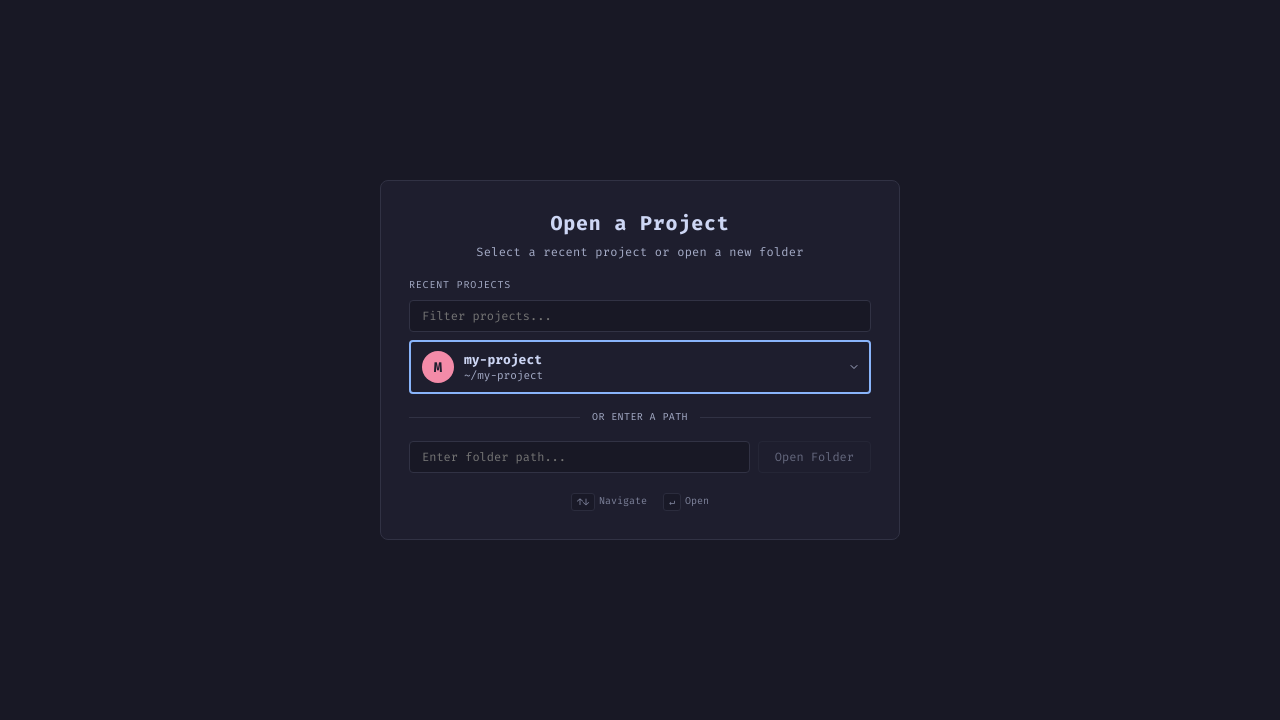
Test: ProjectPicker › collapsing expanded project › collapses worktree section when clicking already expanded project
# First click: expand
What coordinates should you click on to do the following:
click the text "my-project"
I would click on:
 (503, 360)
Its box is x1=464 y1=352 x2=542 y2=367.
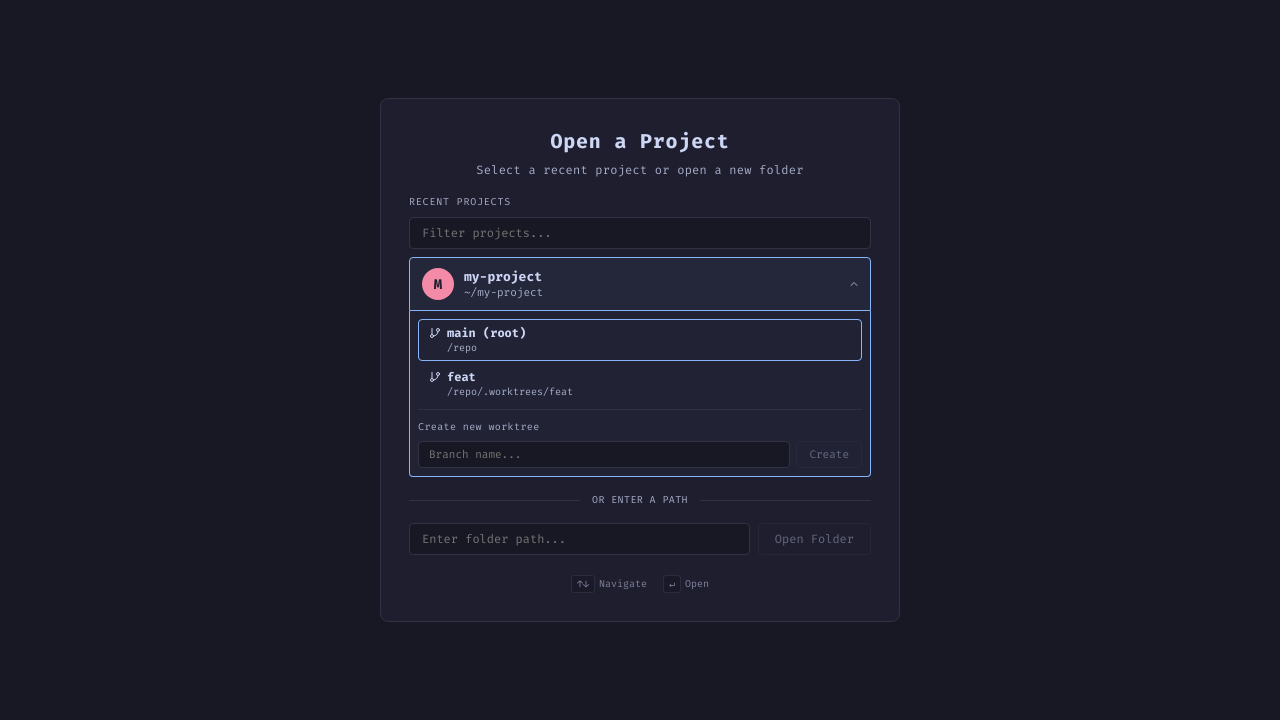
Result: the text "main (root)" is shown at x1=447 y1=326 x2=526 y2=340
# Second click: collapse
What coordinates should you click on to do the following:
click the text "my-project"
I would click on:
 (503, 277)
Its box is x1=464 y1=269 x2=542 y2=284.
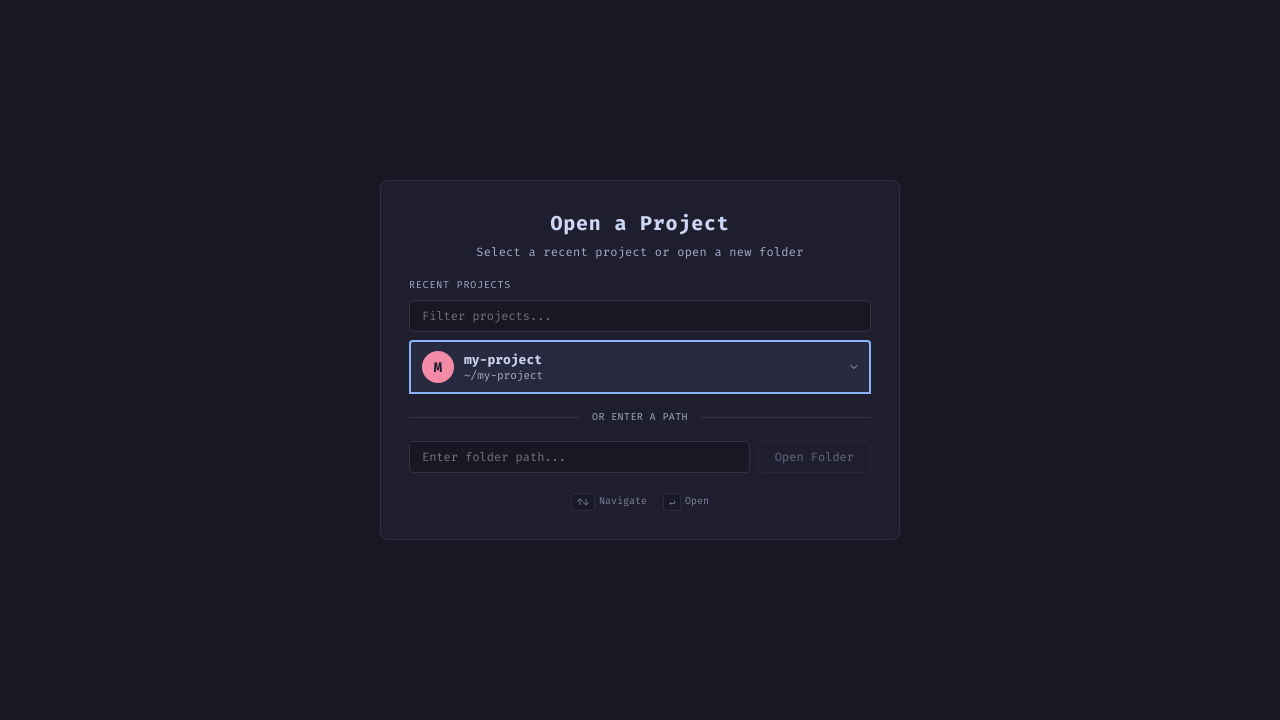
Result: the button "main (root)" is gone
